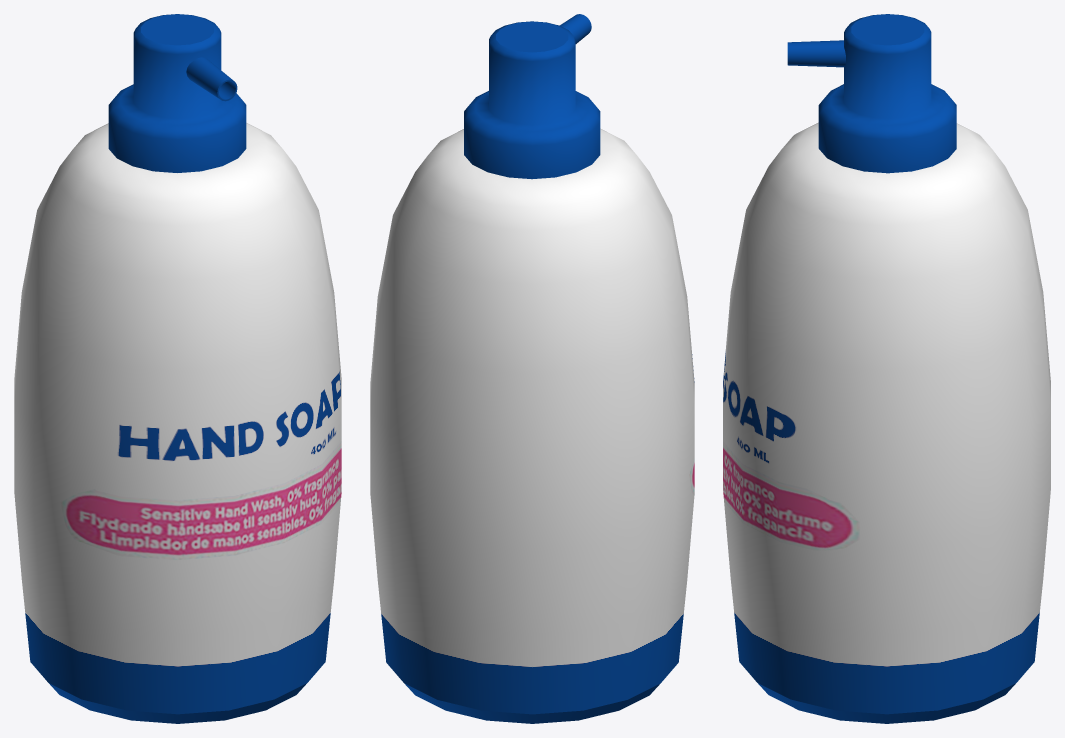
File: Soap.fbx
The picture shows the model from 3 angles, left to right: view 1: azimuth 30°, elevation 25°; view 2: azimuth 150°, elevation 25°; view 3: azimuth 270°, elevation 25°; orthographic projection.
Parts seen in each view (by area): view 1: Soap; view 2: Soap; view 3: Soap.
Part boxes in pixels (<box>): Soap: <box>14,14,341,723</box>; Soap: <box>370,14,694,723</box>; Soap: <box>723,14,1050,723</box>.
Size of the model in its own units: 9.49 by 20.02 by 9.35.
1 material, 1 textured.
